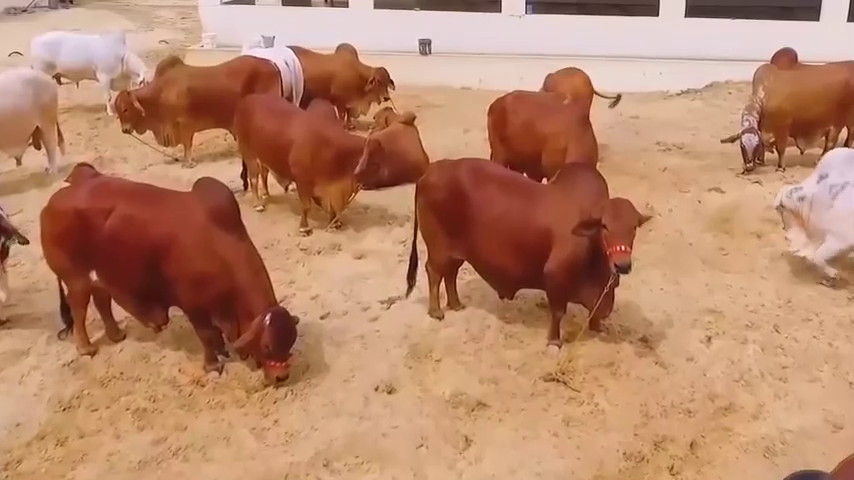bo: (42, 160, 306, 395), (394, 151, 637, 345), (225, 87, 389, 235), (106, 56, 287, 165), (729, 53, 851, 173), (767, 149, 854, 294), (479, 90, 610, 185), (1, 62, 91, 195), (27, 25, 154, 101), (289, 35, 401, 111), (349, 96, 431, 193), (537, 55, 627, 124), (238, 28, 308, 104)
